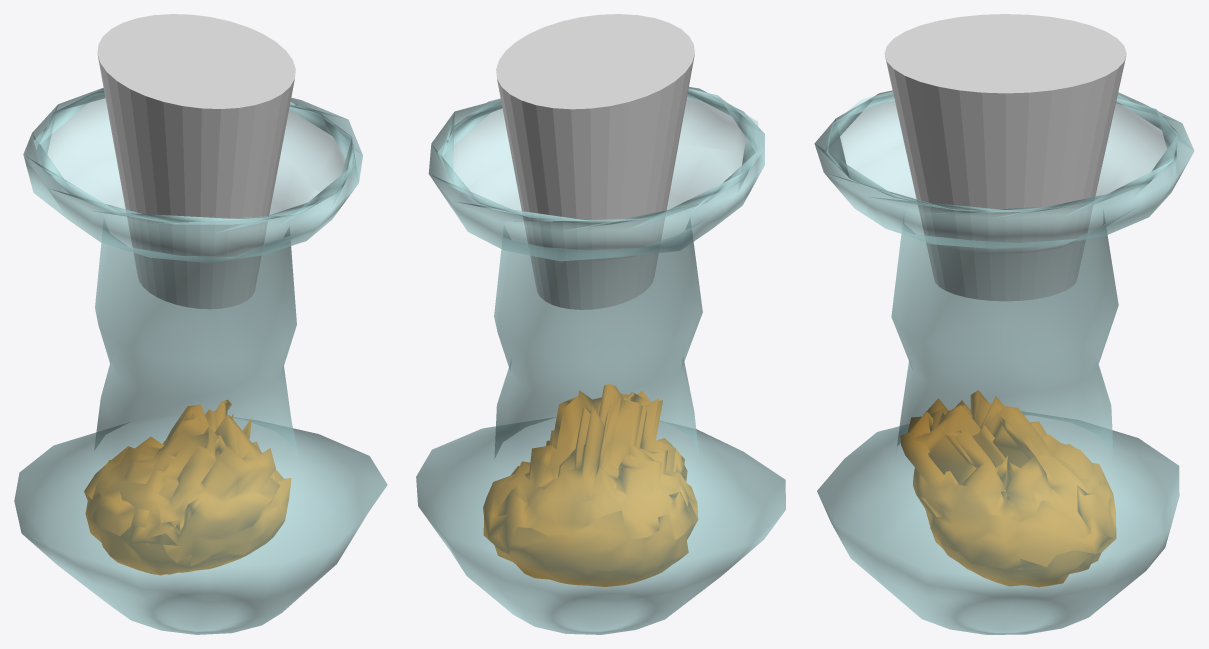
The model's file is potiunepalarie.fbx.
3 renders of one model, left to right at view 1: azimuth 30°, elevation 25°; view 2: azimuth 150°, elevation 25°; view 3: azimuth 270°, elevation 25°, orthographic. The views are drawn at different scales.
Parts seen in each view (by area): view 1: Plane.001, Cylinder.002, Sphere.003; view 2: Plane.001, Cylinder.002, Sphere.003; view 3: Plane.001, Cylinder.002, Sphere.003.
Part boxes in pixels (box(x1,y1,x2,y2)): Plane.001: box(14, 87, 387, 634); Cylinder.002: box(97, 14, 295, 309); Sphere.003: box(84, 399, 291, 575); Plane.001: box(416, 87, 785, 634); Cylinder.002: box(496, 14, 694, 309); Sphere.003: box(483, 384, 698, 586); Plane.001: box(814, 90, 1194, 634); Cylinder.002: box(884, 14, 1126, 301); Sphere.003: box(900, 390, 1116, 587).
Bounding box in the file's own units: 409 × 651 × 388.
